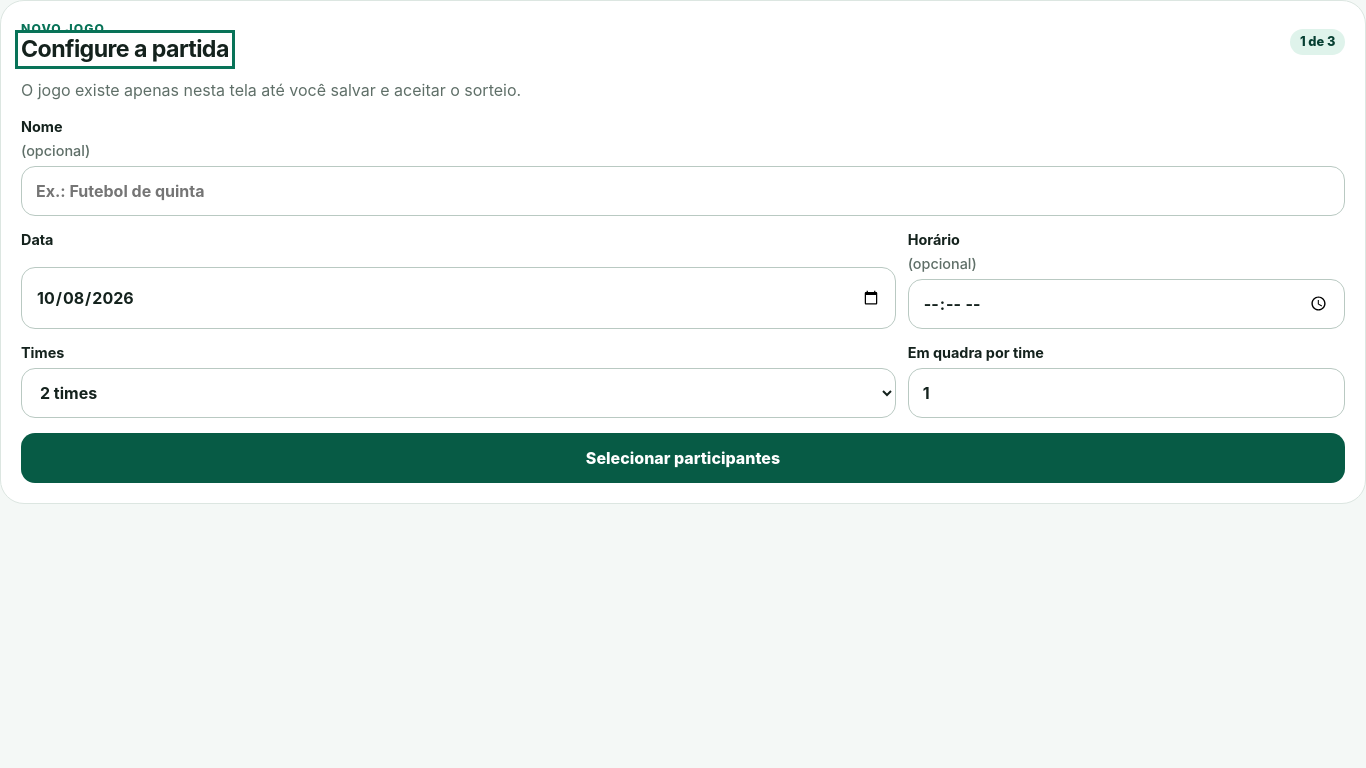
Test: persistência real no fluxo da Fase 7 › mantém todos rerolls em sequência e exatamente o último aceito
Click the button "Selecionar participantes". click: (683, 458)
box: [21, 433, 1345, 483]
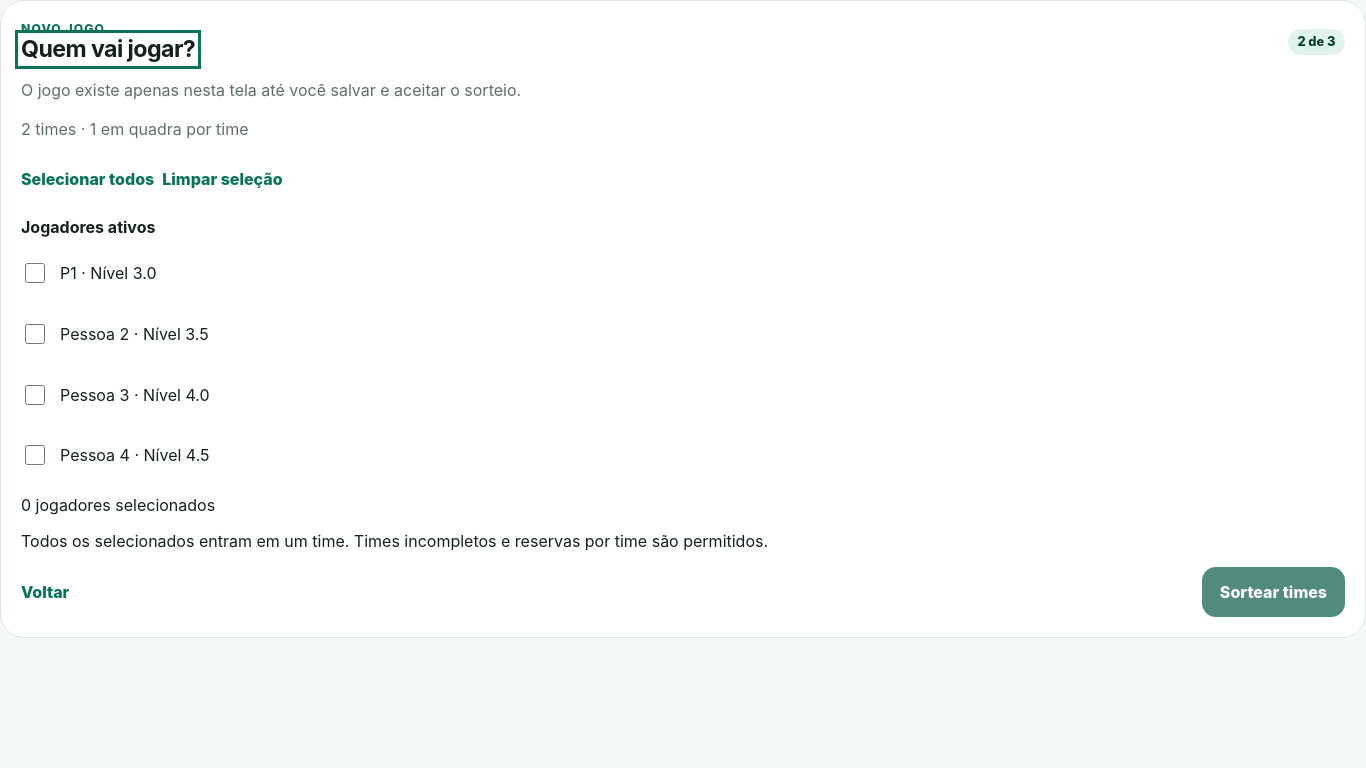
Click the button "Selecionar todos". click: (88, 179)
box: [21, 157, 154, 201]
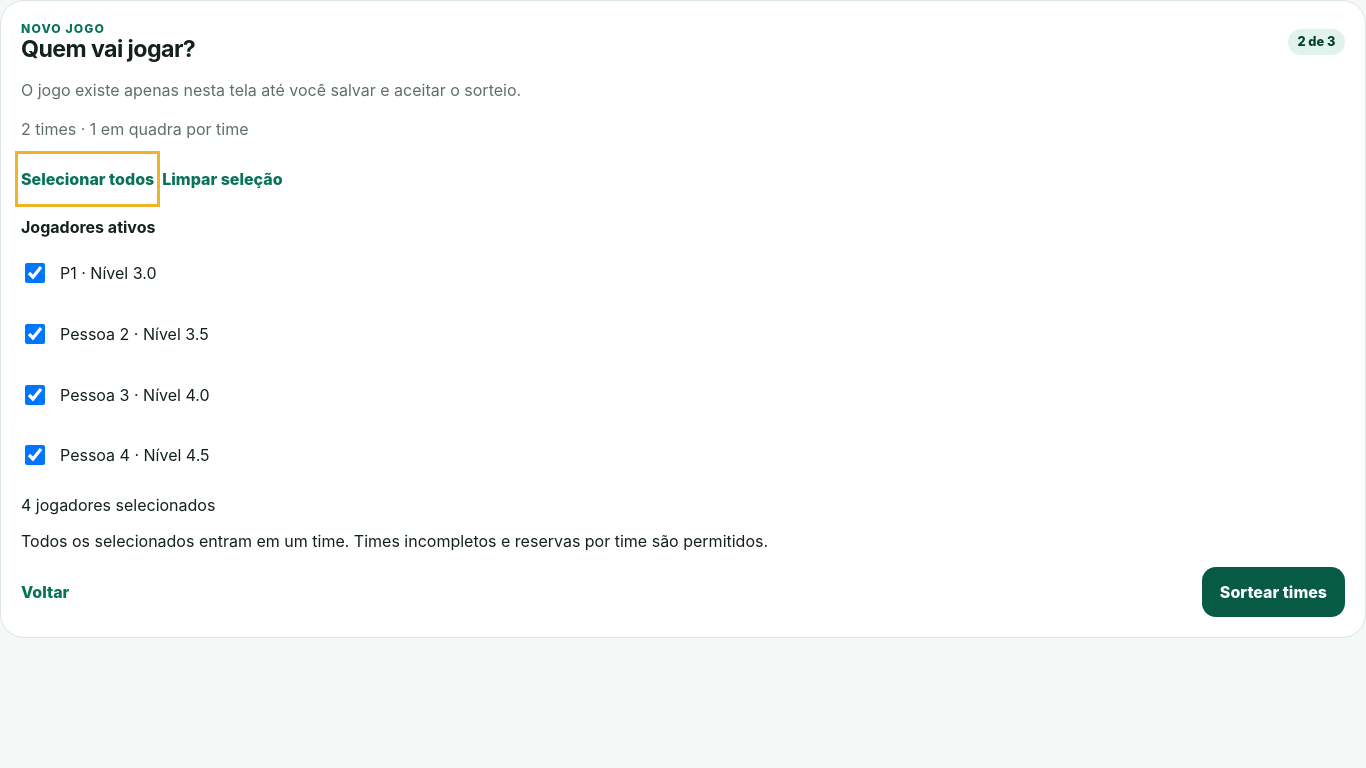
Click the button "Sortear times". click: (1273, 592)
box: [1202, 567, 1345, 617]
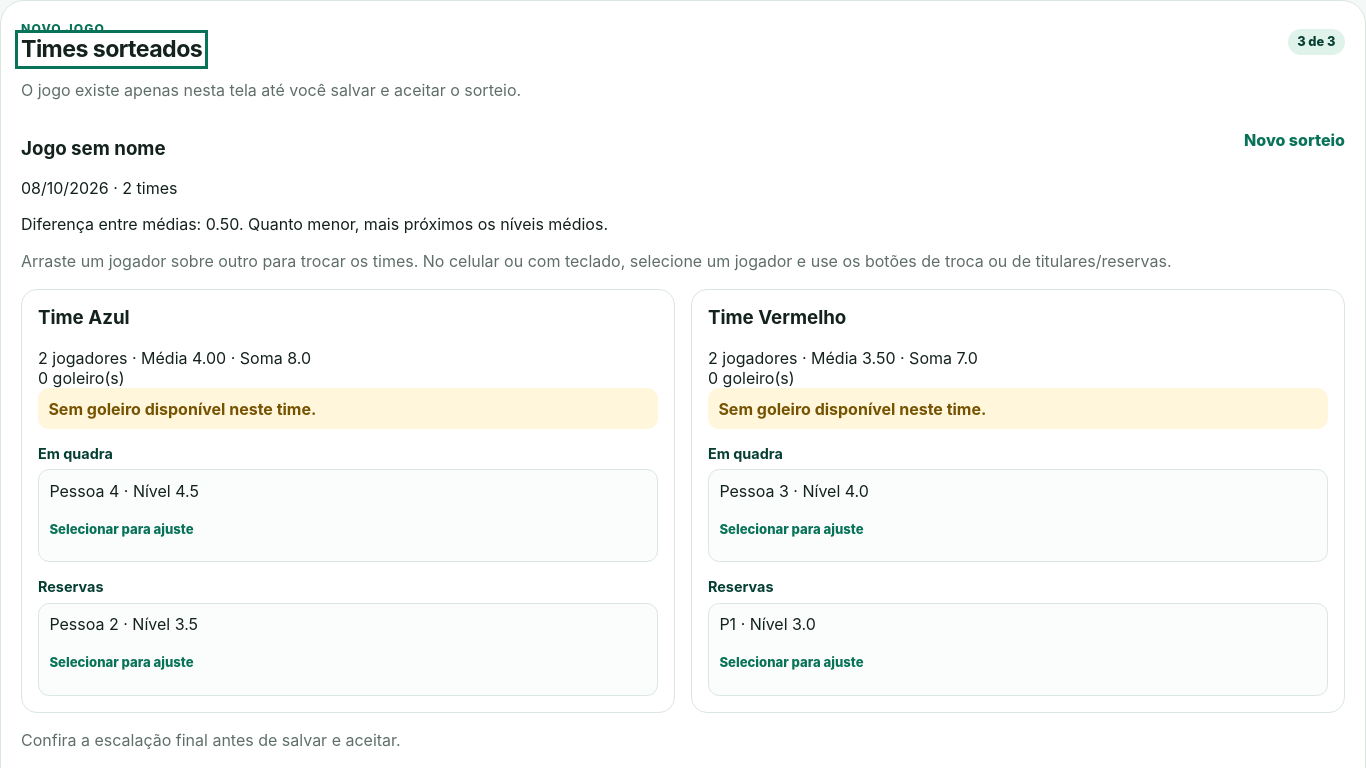
Click the button "Novo sorteio". click: (1294, 140)
box: [1244, 118, 1345, 162]
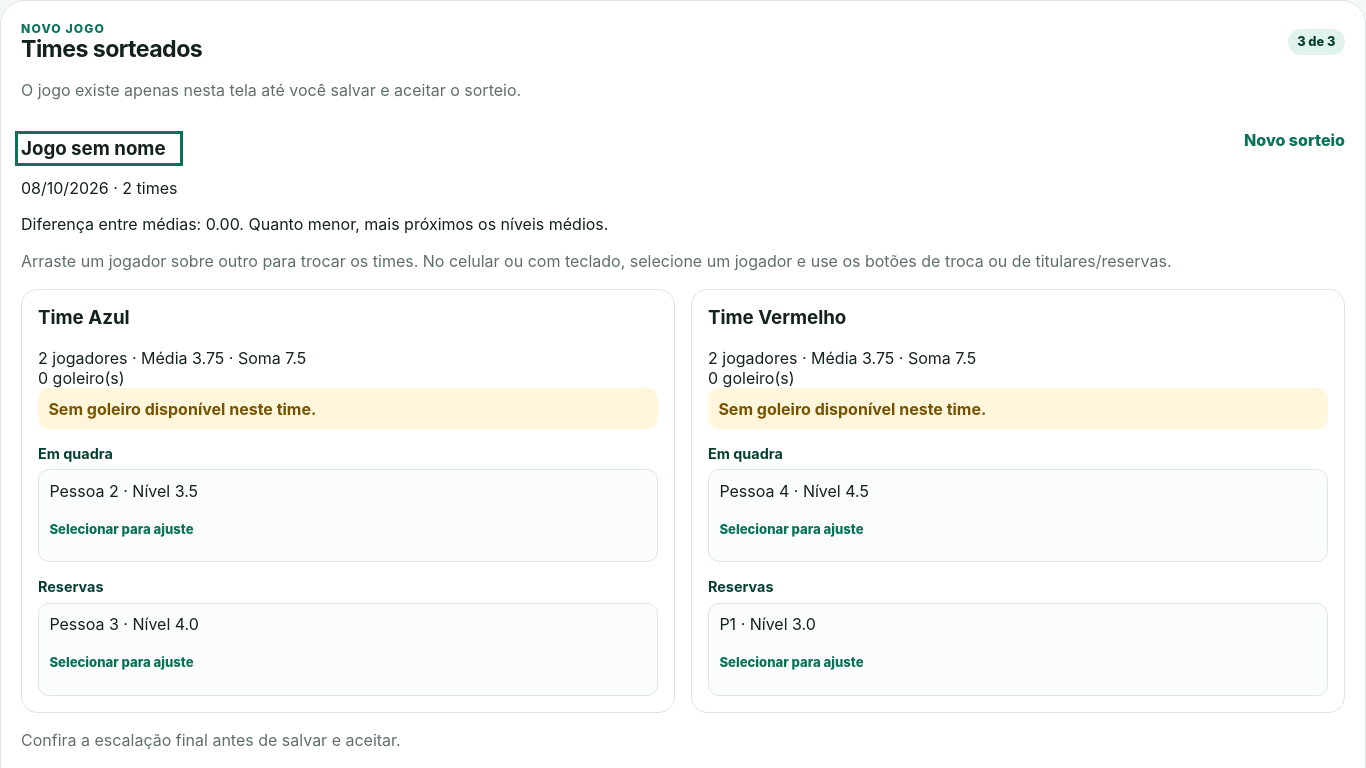
Expected: the button "Novo sorteio" is enabled
Click the button "Novo sorteio". click: (1294, 140)
box: [1244, 118, 1345, 162]
(page scrolled)
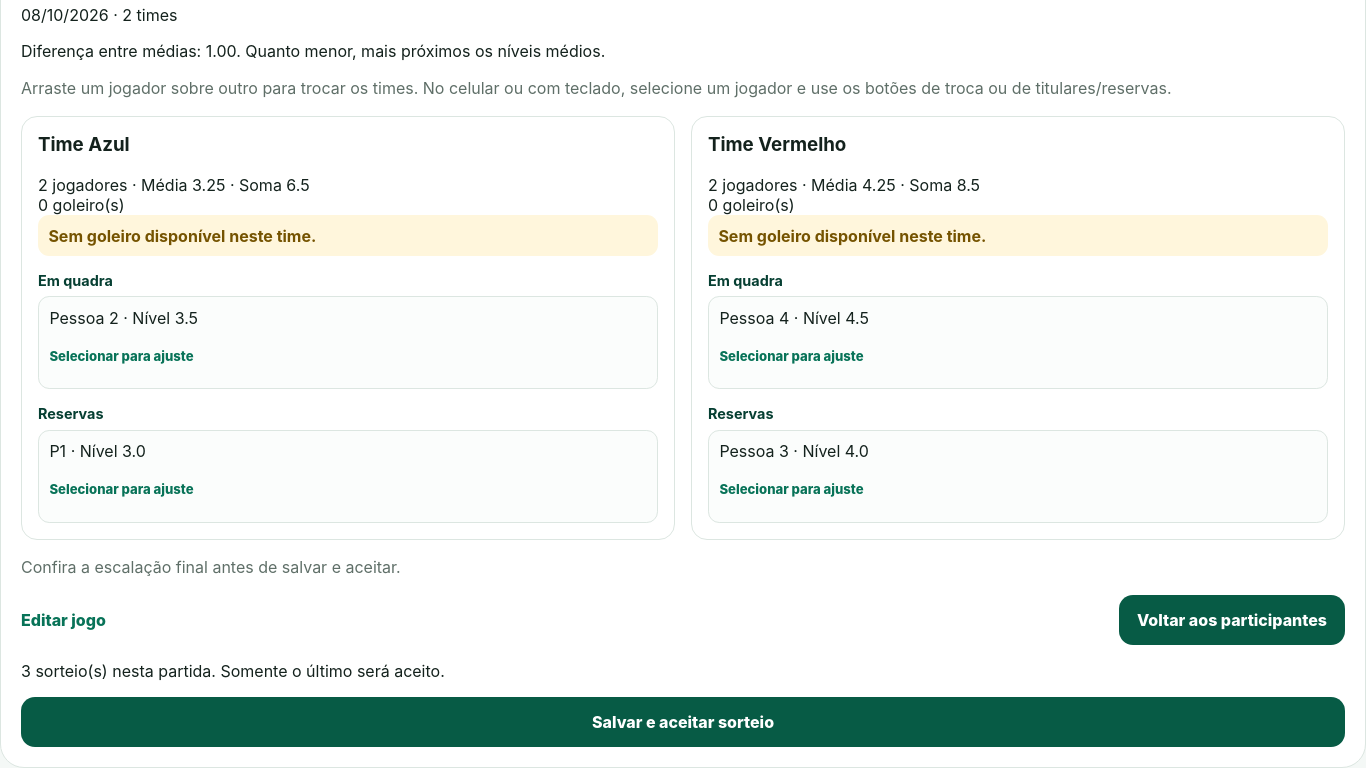
Click the button "Salvar e aceitar sorteio". click: (683, 722)
box: [21, 697, 1345, 747]
(page scrolled)
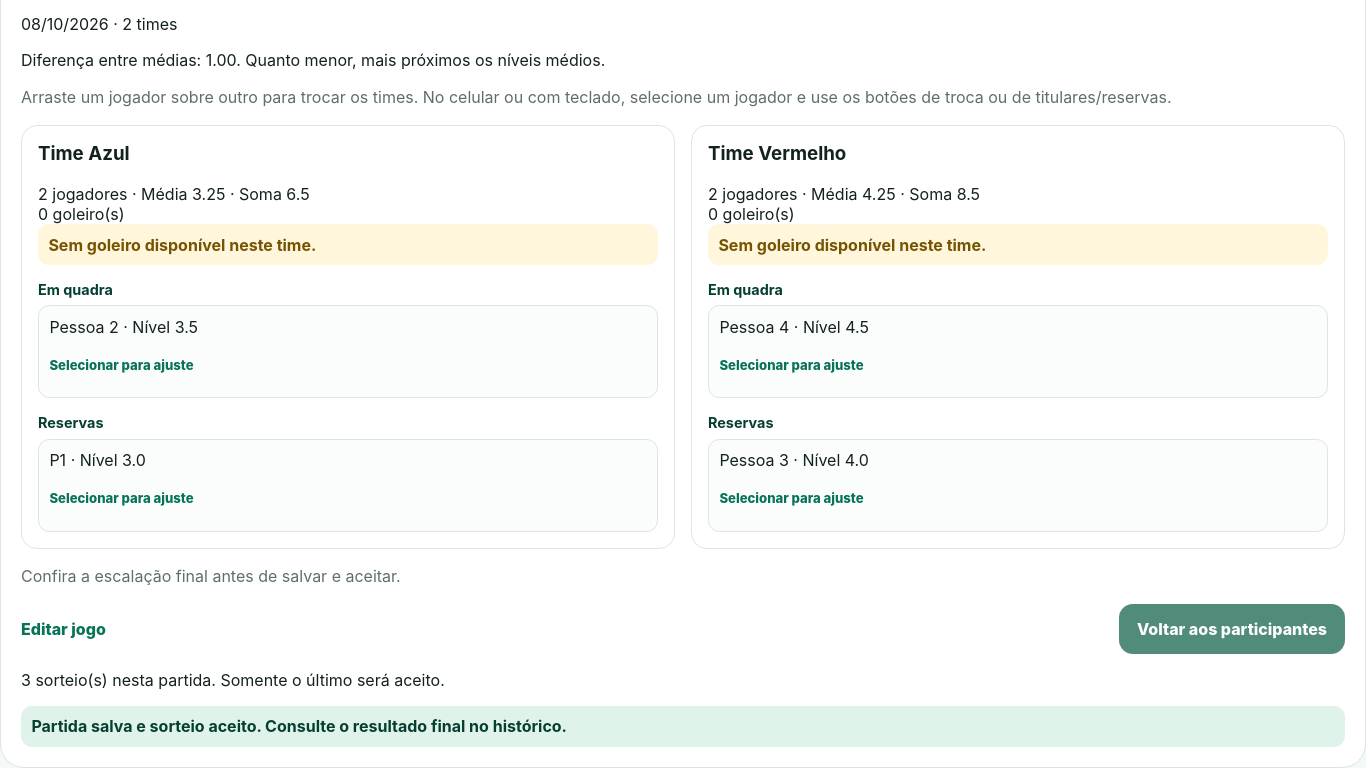
Expected: the text "Partida salva e sorteio aceito. Consulte o resultado final no histórico." is shown, [21, 706, 1345, 747]
